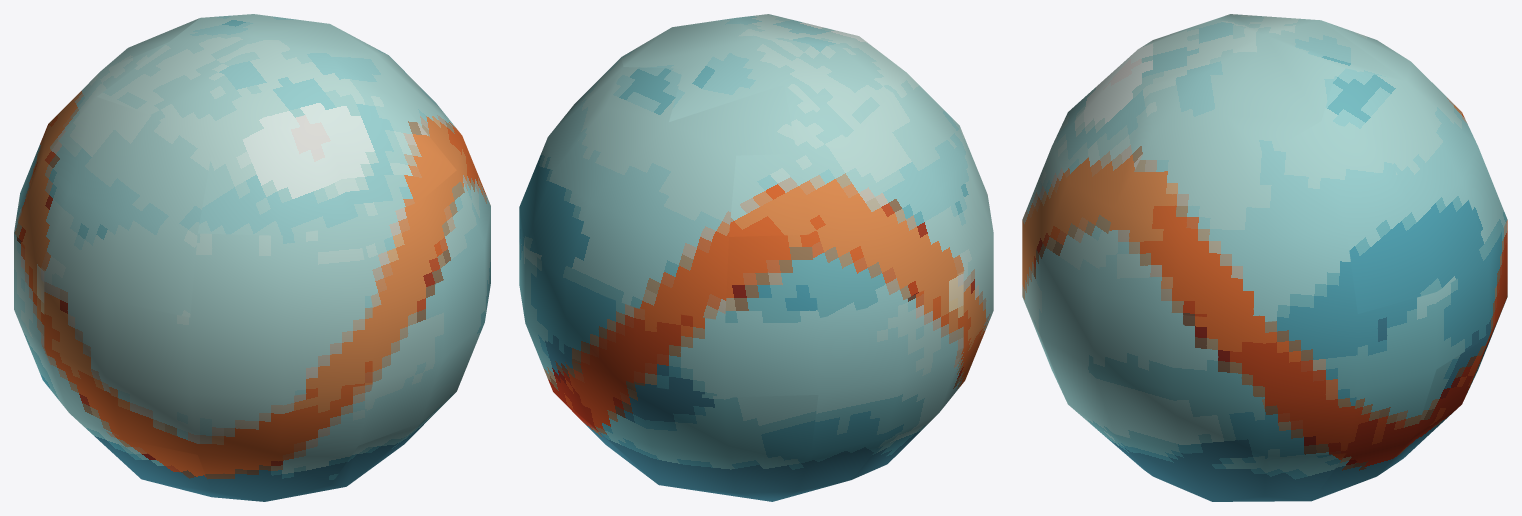
The model's file is marble_m.glb.
3 views of the same model, side by side, from view 1: azimuth 30°, elevation 25°; view 2: azimuth 150°, elevation 25°; view 3: azimuth 270°, elevation 25° (orthographic).
Visible parts, largest first — view 1: mesh; view 2: mesh; view 3: mesh.
Part boxes in pixels (bbox=[...]): mesh: bbox=[14, 14, 490, 501]; mesh: bbox=[519, 14, 993, 501]; mesh: bbox=[1022, 14, 1507, 501].
Bounding box in the file's own units: 0.0157 × 0.016 × 0.0157.
Materials: 1 (1 with a texture image).
